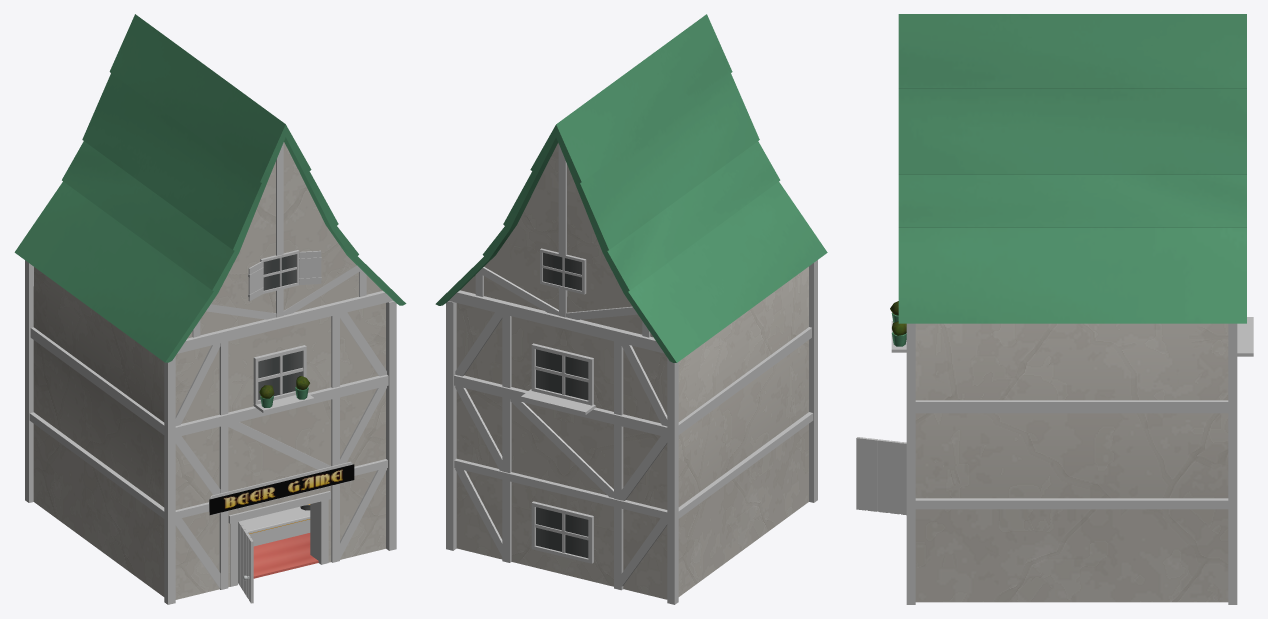
Rendered from BeerGame_Art.fbx.
3 renders of one model, left to right at view 1: azimuth 30°, elevation 25°; view 2: azimuth 150°, elevation 25°; view 3: azimuth 270°, elevation 25°, orthographic. The views are drawn at different scales.
Parts seen in each view (by area): view 1: Oktoberfest_BeerGame; view 2: Oktoberfest_BeerGame; view 3: Oktoberfest_BeerGame.
Part boxes in pixels (x1,y1,x2,y2): Oktoberfest_BeerGame: (14, 14, 406, 604); Oktoberfest_BeerGame: (435, 14, 827, 604); Oktoberfest_BeerGame: (856, 14, 1253, 604).
Bounding box in the file's own units: 1019 × 1837 × 1256.
